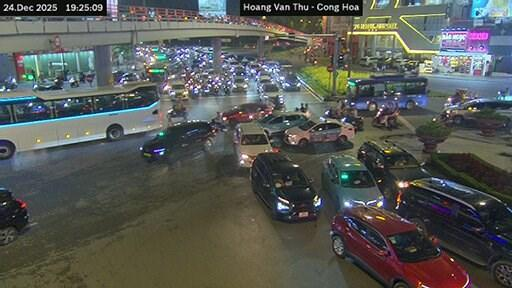motorbike: (320, 108, 362, 130), (444, 88, 476, 106), (371, 108, 397, 126), (166, 107, 188, 121), (269, 94, 284, 109), (210, 117, 227, 130), (295, 103, 310, 117), (0, 76, 15, 90), (496, 88, 511, 99), (70, 76, 79, 86), (224, 85, 230, 94)
